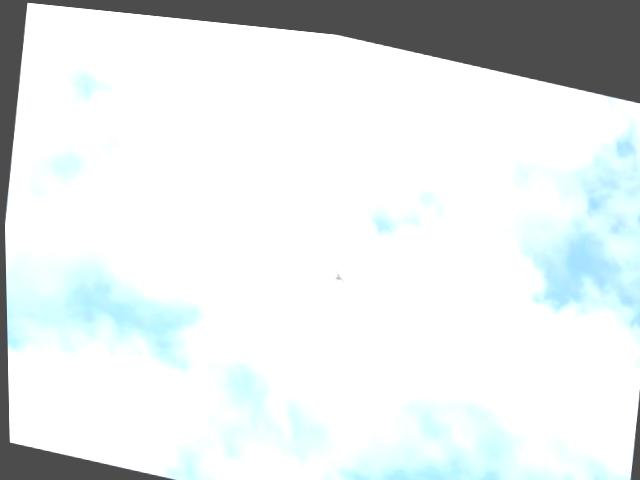uav: (323, 251, 354, 286)
